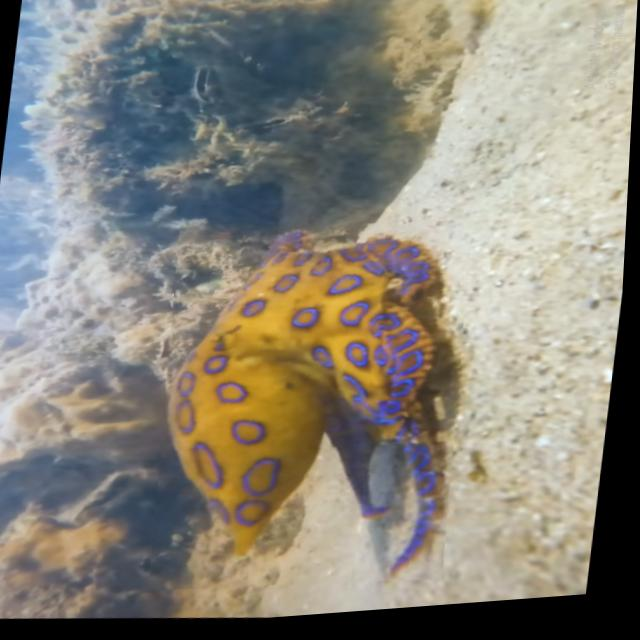blue_ringed_octopus: (145, 208, 485, 611)
